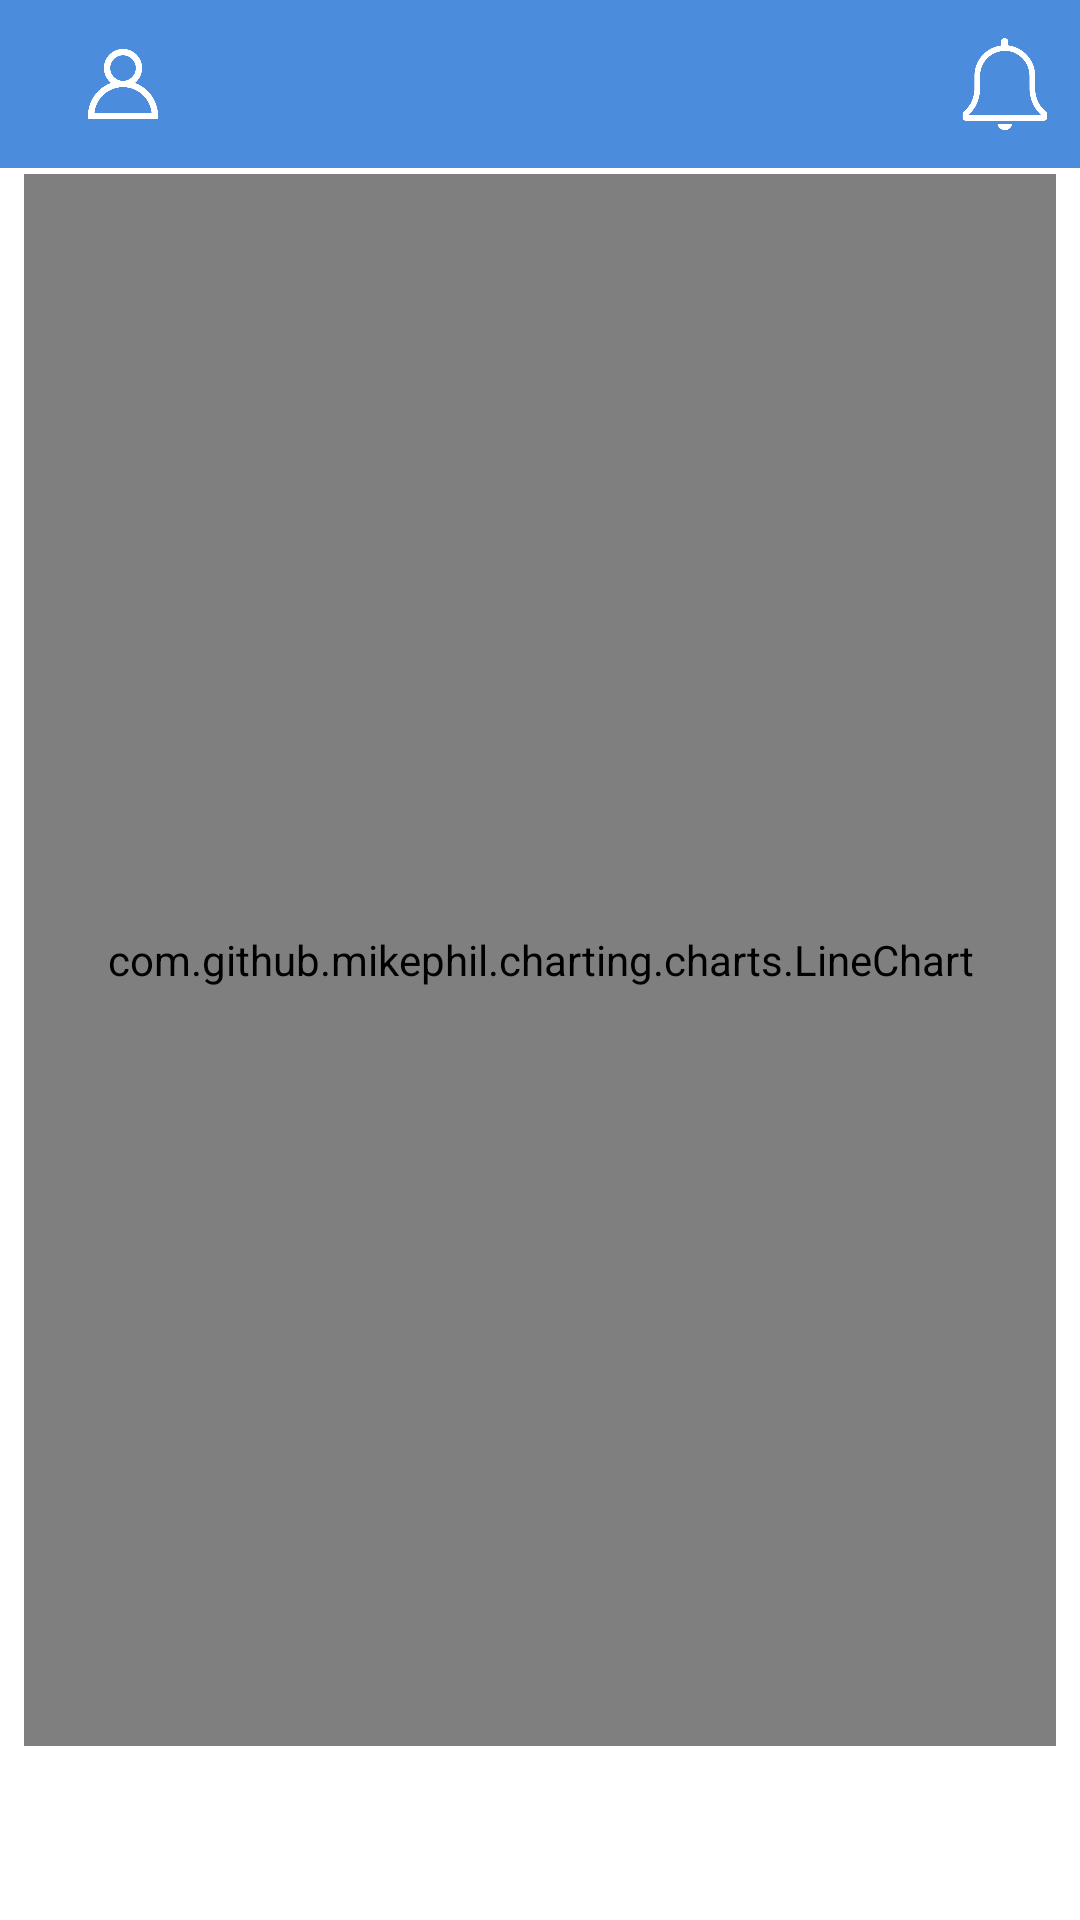

Screen size 1080w x 1920h. Icon name, then its box in pixels as (x1, y1, x2, y2):
Notification Icon: (963, 38, 1047, 130)
User Icon: (88, 49, 158, 119)
